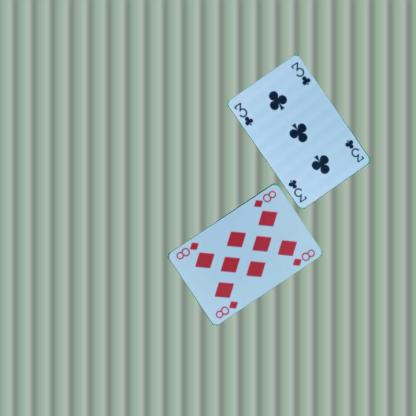3c: (343, 137, 365, 163), (232, 100, 254, 126)
8d: (213, 298, 239, 320), (252, 187, 278, 208)
